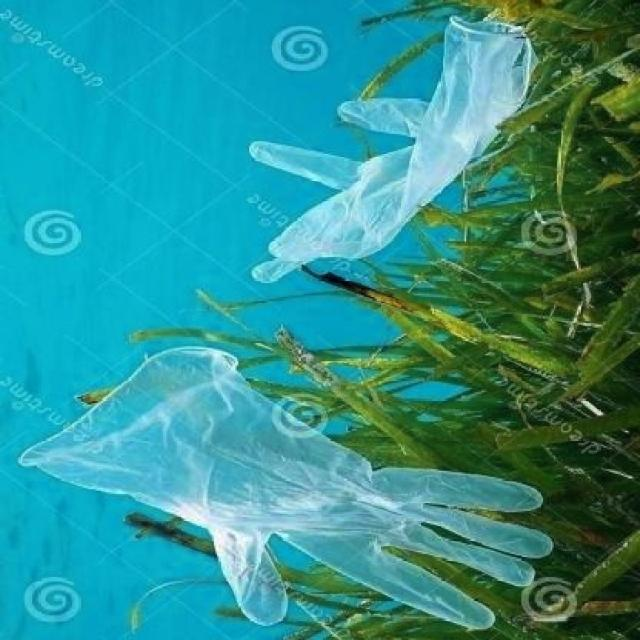glove: (10, 346, 568, 634), (232, 16, 534, 295)
